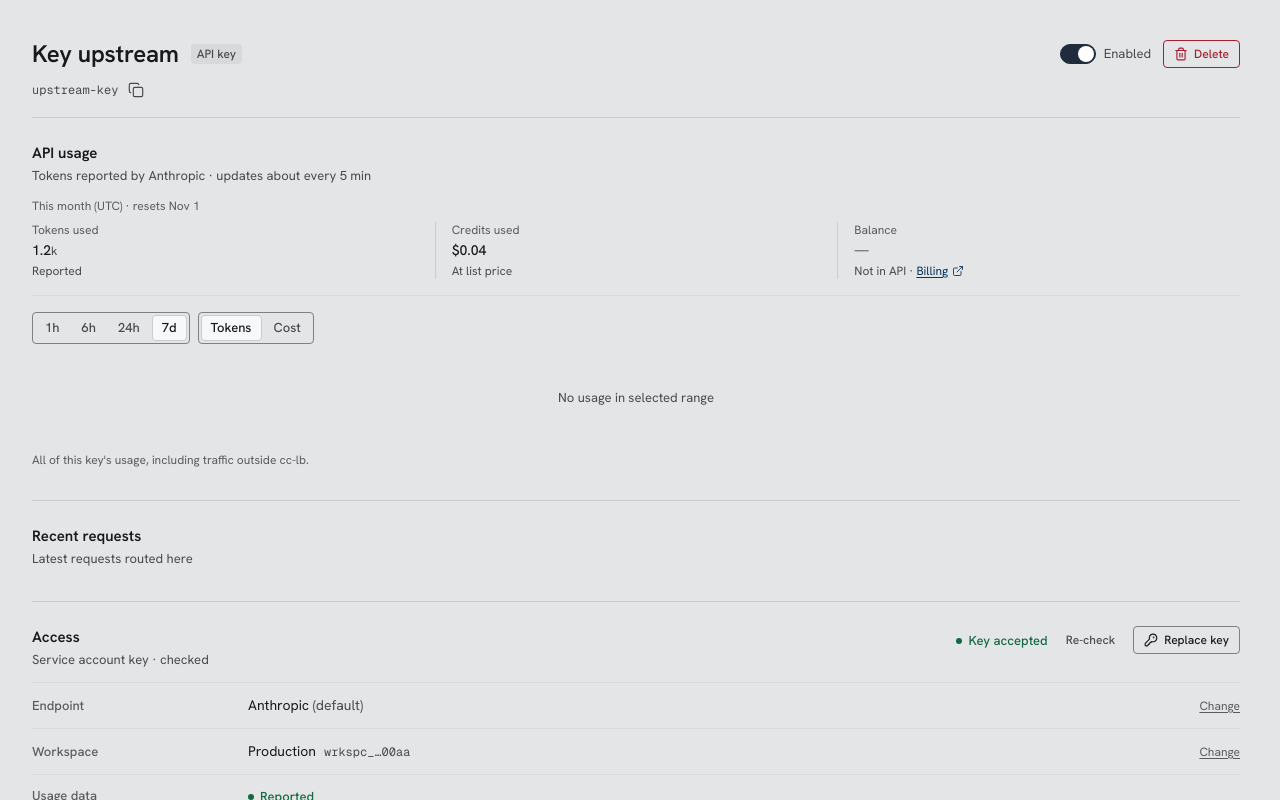
Test: UI-AC-05 one inline editor at a time › opening Change workspace closes the Endpoint editor
Click the button with aria-label "Change endpoint" at (1220, 706), box 1199,698 -> 1240,714
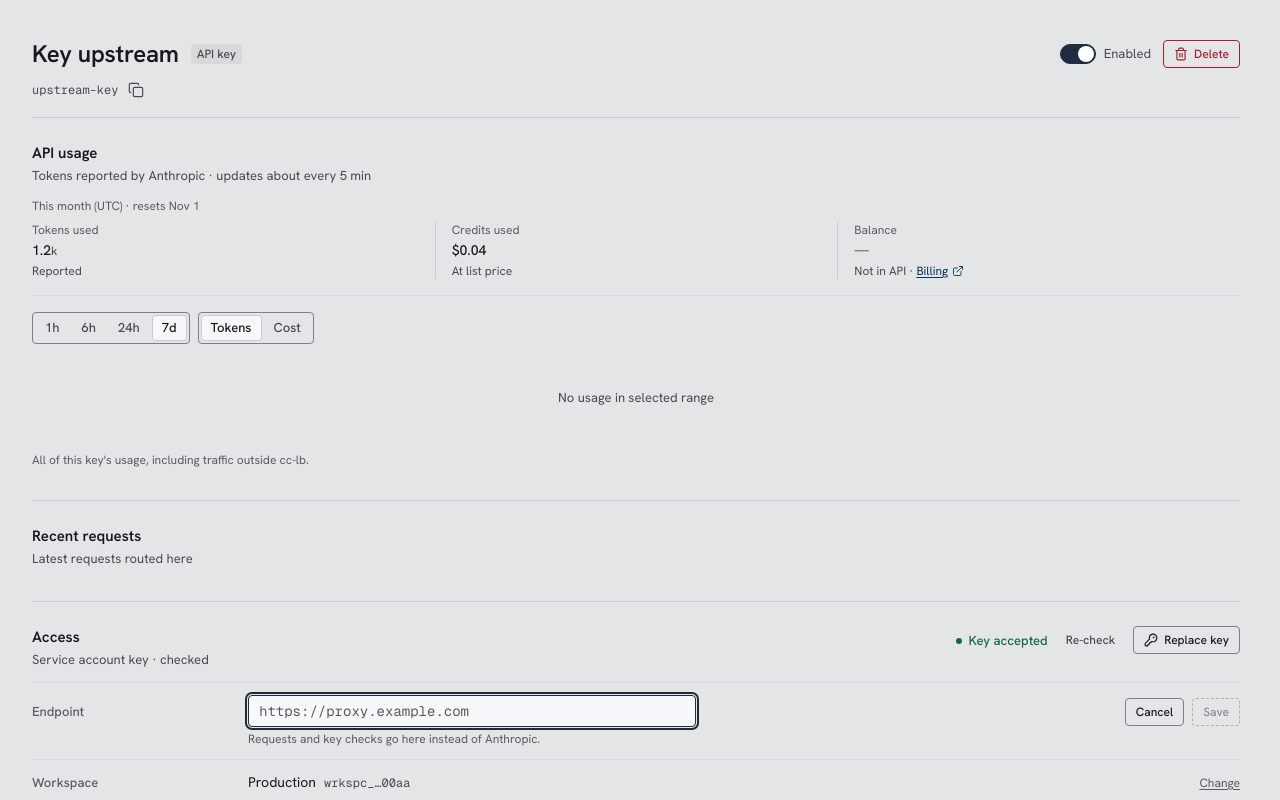
Now the field named "Base URL" is shown, box 248,695 -> 696,727
Click the button with aria-label "Change workspace" at (1220, 783), box 1199,775 -> 1240,791
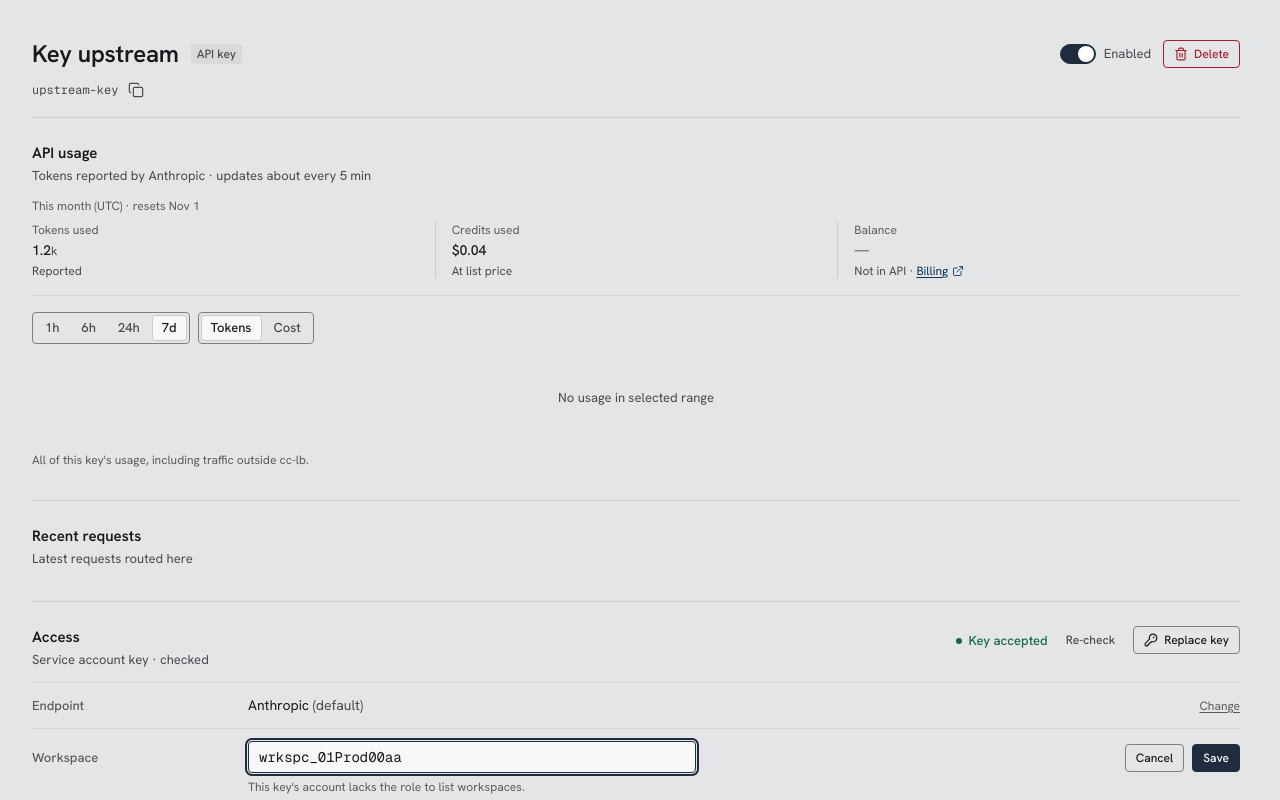
Now the number of buttons "Save" is 1, box 1192,744 -> 1240,772
Now the field named "Workspace ID" is shown, box 248,741 -> 696,773
